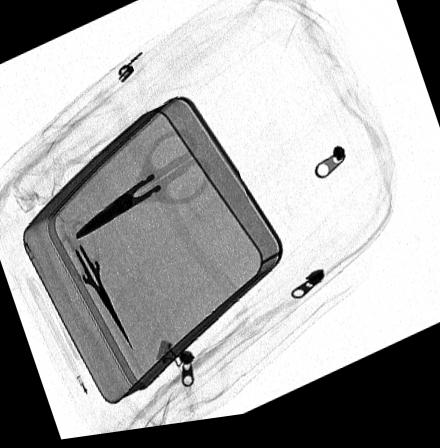Scissors: (74, 135, 210, 246), (56, 222, 136, 355)
